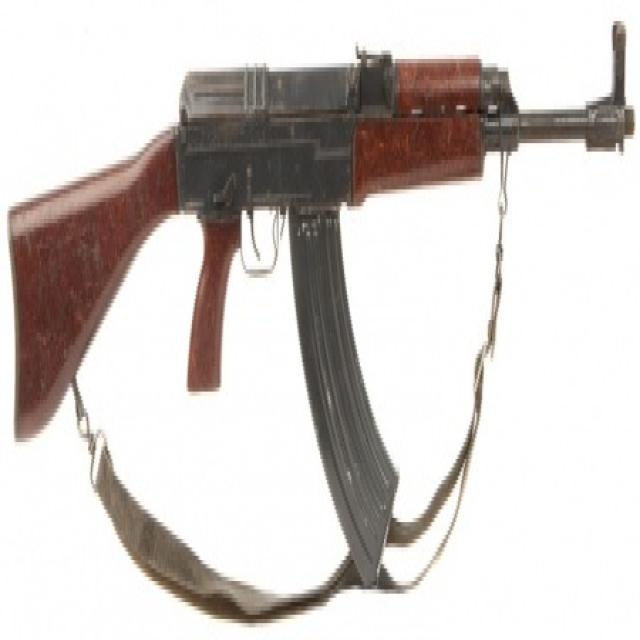rifle: (6, 14, 638, 625)
